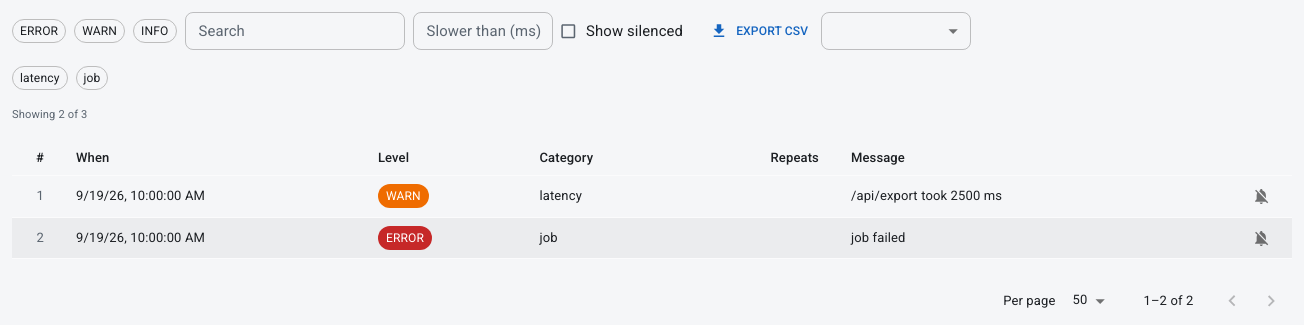
Test case: AlertsPanel › filters by latency
Type "1000" into the number field labelled "Slower than (ms)".
click(482, 31); type("1000")  # box [412, 12, 552, 50]
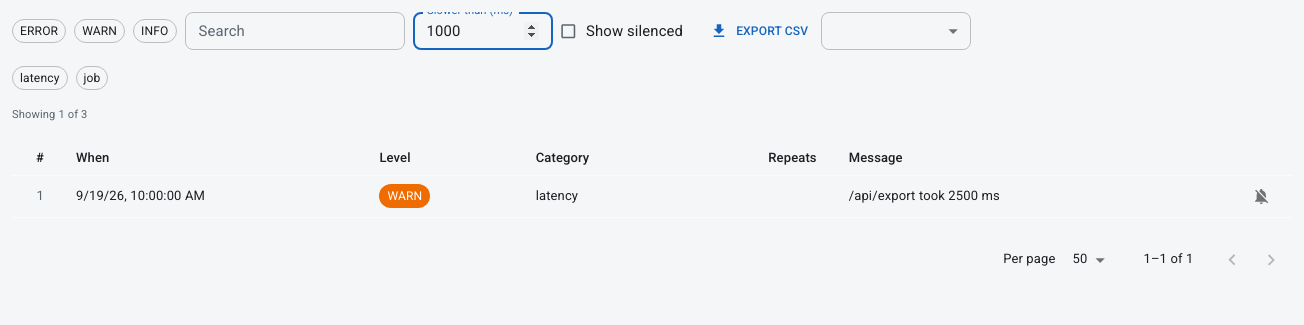
Expected: the text "/api/export took 2500 ms" is shown, [849, 188, 1000, 203]
Now the text "job failed" is gone
